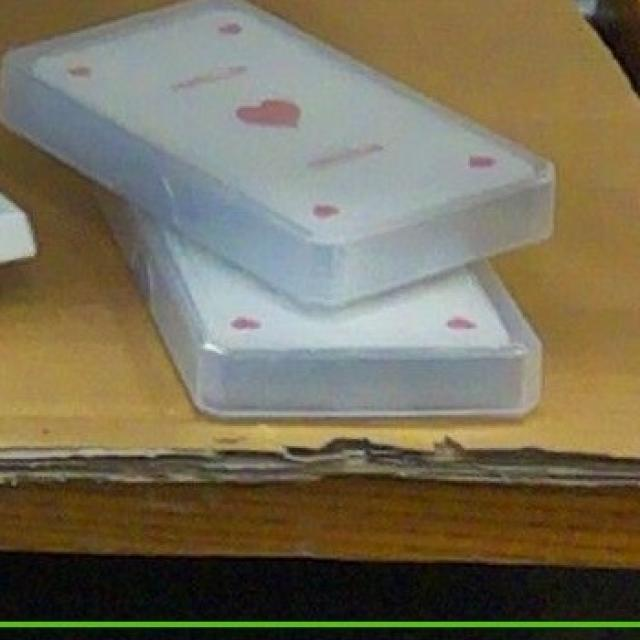Jasskarte: (0, 0, 554, 307), (102, 197, 539, 417)
